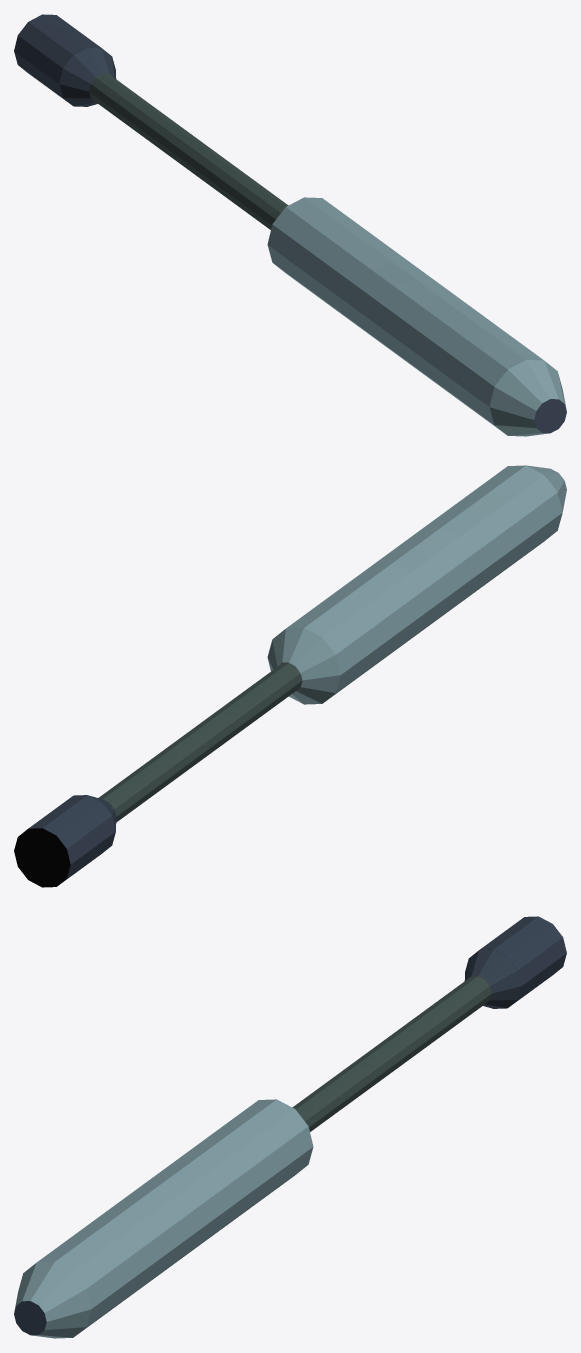
The model's file is RoLa rocket.fbx.
The picture shows the model from 3 angles, top to bottom: view 1: azimuth 30°, elevation 25°; view 2: azimuth 150°, elevation 25°; view 3: azimuth 330°, elevation 25°; orthographic projection.
Visible parts, largest first — view 1: Cylinder; view 2: Cylinder; view 3: Cylinder.
Boxes of the visible parts, x1,y1,x2,y2 form: Cylinder: (14, 14, 566, 436); Cylinder: (14, 465, 566, 887); Cylinder: (14, 916, 566, 1338).
Size of what is drawn, in the model's own units: 540 by 540 by 6493.
1 material, 1 textured.
